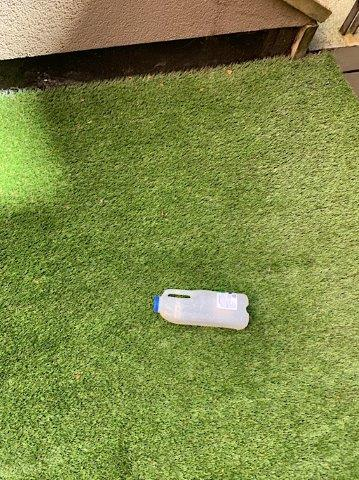botolplastik: (155, 289, 249, 328)
